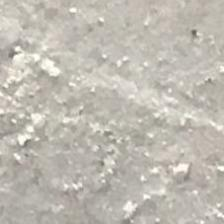Non_Crack: (67, 20, 184, 224)
